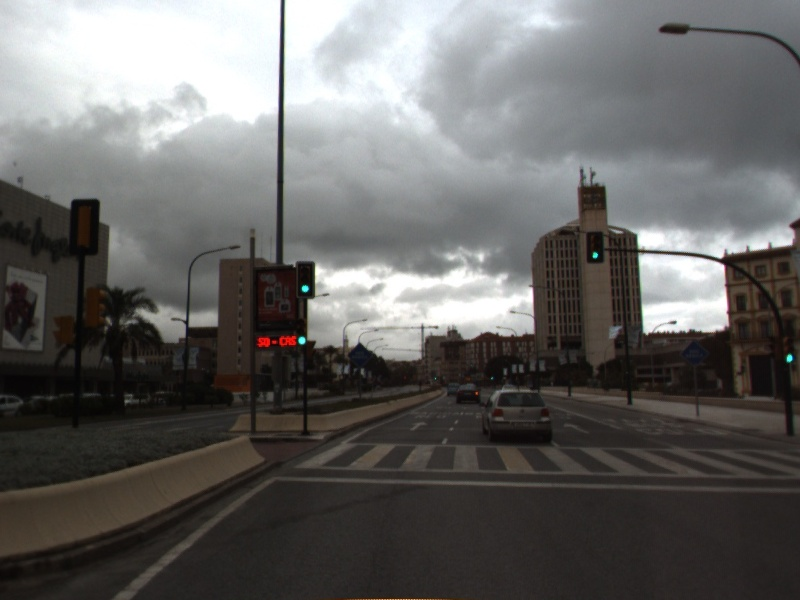STRAIGHT: (561, 420, 592, 436), (407, 419, 431, 433)
